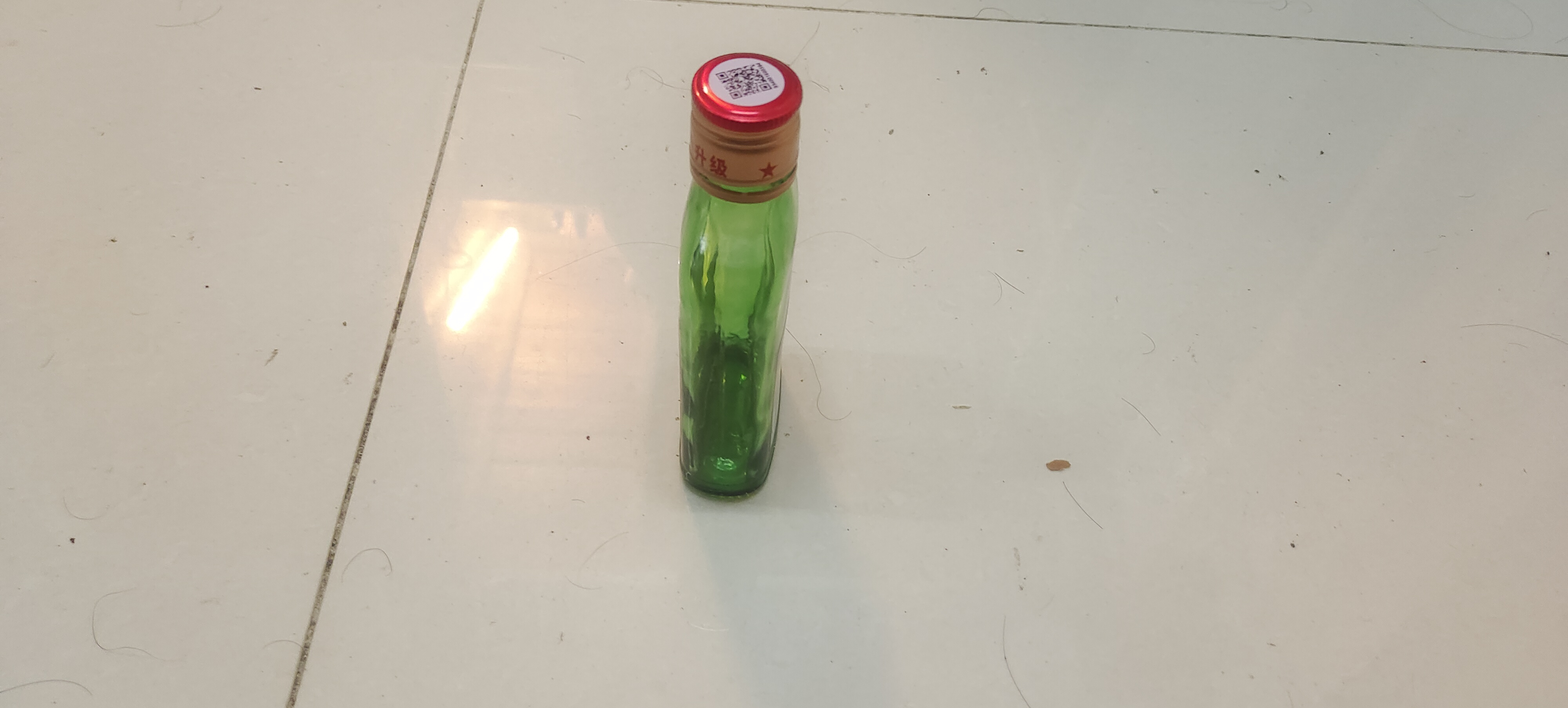redbull: (524, 65, 995, 564)
